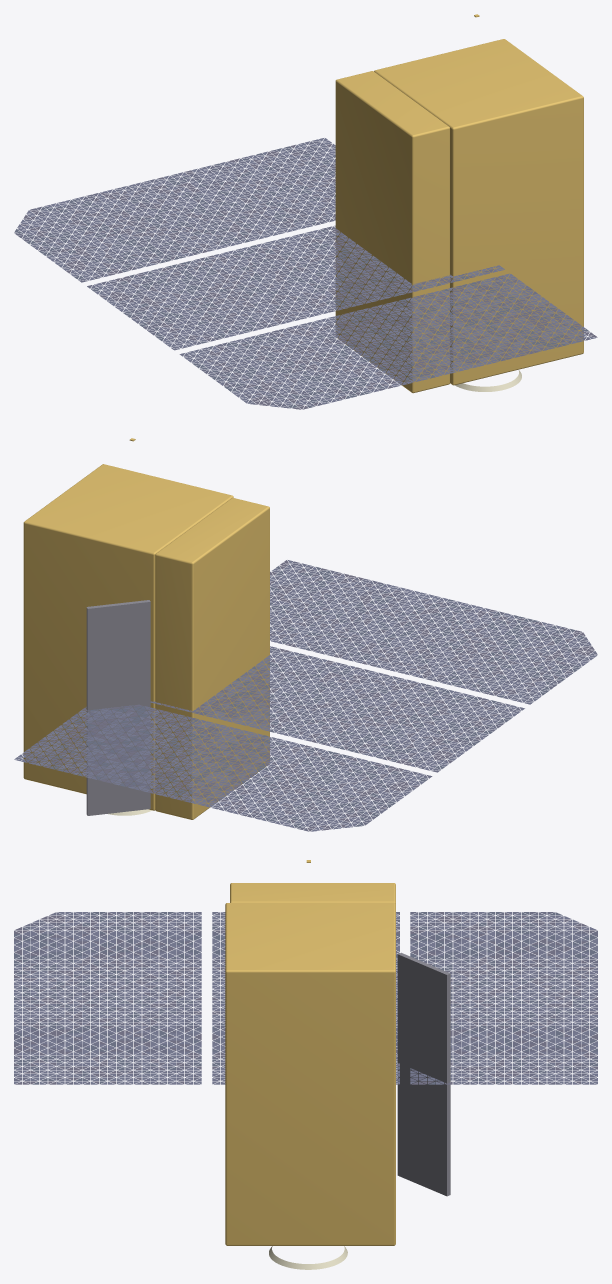
The model's file is lro.dae.
3 renders of one model, top to bottom at view 1: azimuth 30°, elevation 25°; view 2: azimuth 150°, elevation 25°; view 3: azimuth 270°, elevation 25°, orthographic. The views are drawn at different scales.
Parts seen in each view (by area): view 1: lro-full-exp; view 2: lro-full-exp; view 3: lro-full-exp.
Part boxes in pixels (<box>): lro-full-exp: <box>14,14,597,409</box>; lro-full-exp: <box>14,438,597,831</box>; lro-full-exp: <box>14,860,597,1269</box>.
Size of the model in its own units: 28.31 by 32.18 by 23.58.
